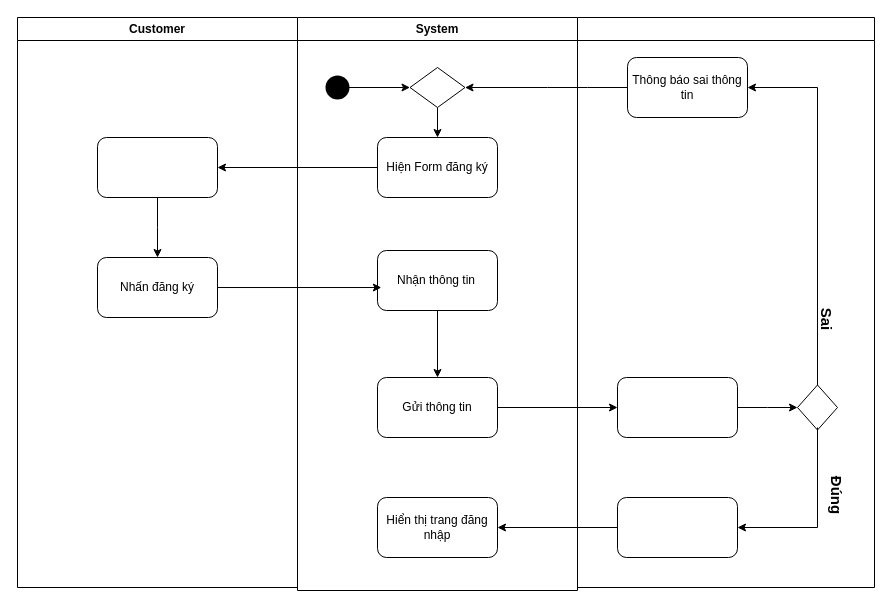
Image size: 892x608. Some labels were removed from this diagram. Each missing label, with the box of its shape:
Database: (576, 16, 874, 588)
Kiểm tra ràng buộc: (616, 376, 738, 438)
Lưu Customer vào DB: (616, 496, 738, 558)
Nhập thông tin đăng ký: (96, 136, 218, 198)
